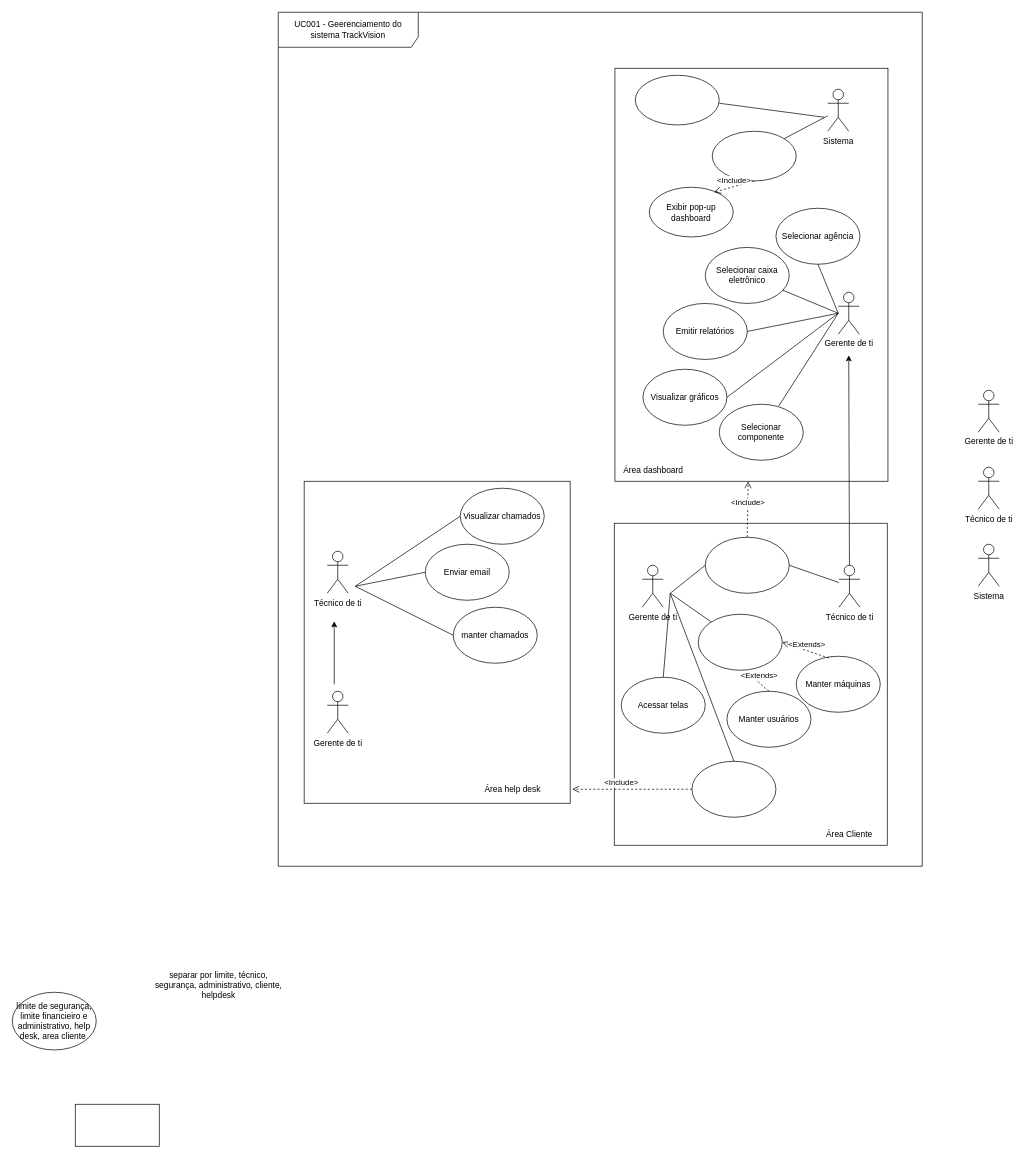
This 1025x1159 diagram has some shape labels left out. Each missing label, with the centre of its shape:
Acessar cadastro: pixel 740 642
Acessar login: pixel 747 565
Emitir Alertas: pixel 754 156
Enviar chamados: pixel 677 100
Solicitar serviço: pixel 733 789
